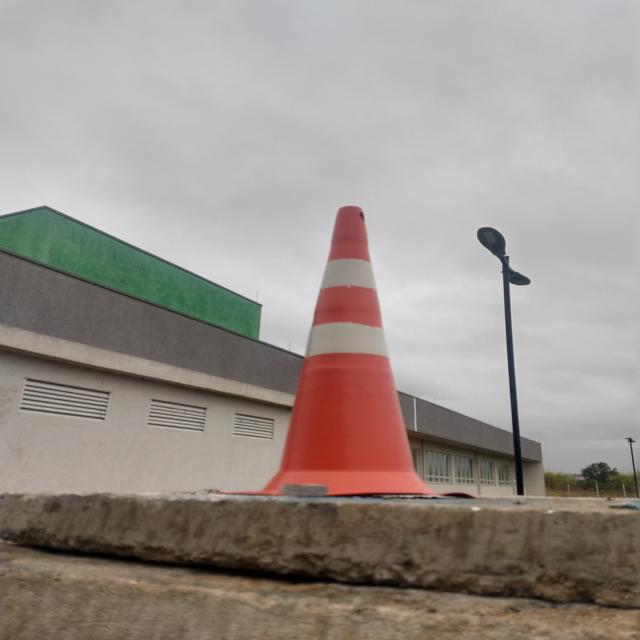cone: (264, 200, 431, 502)
